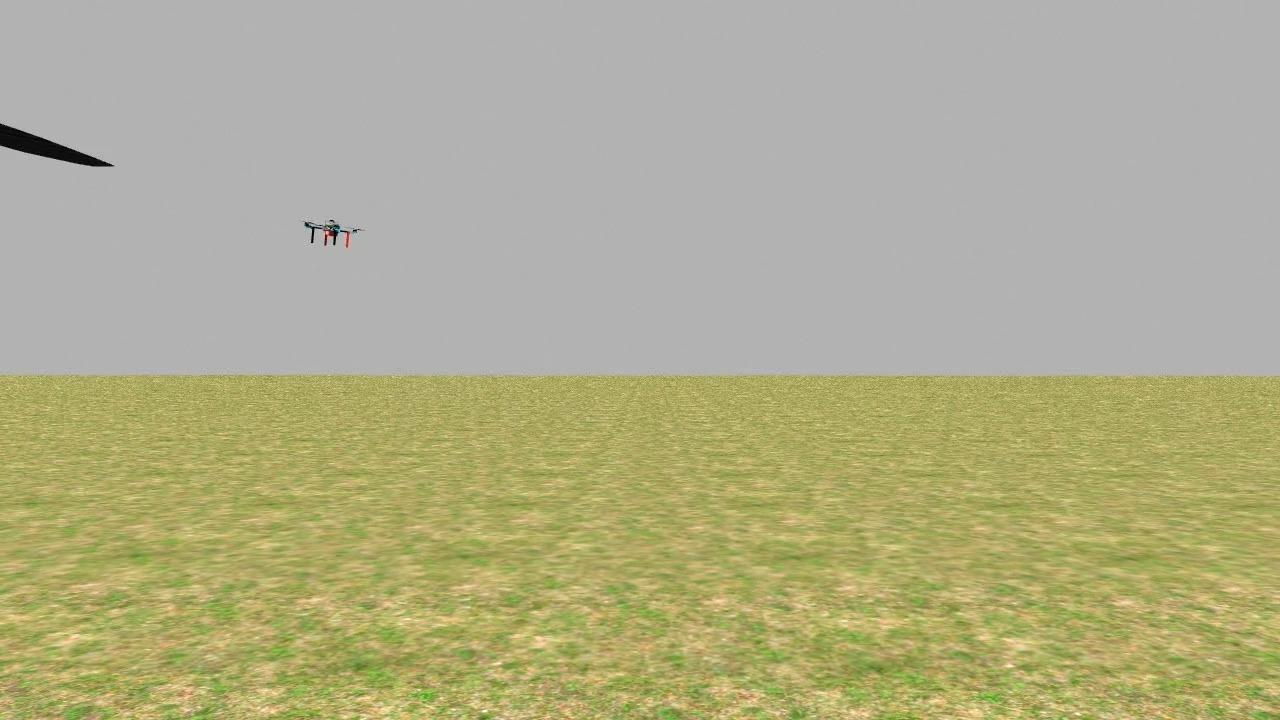UAV: (291, 207, 367, 256)
